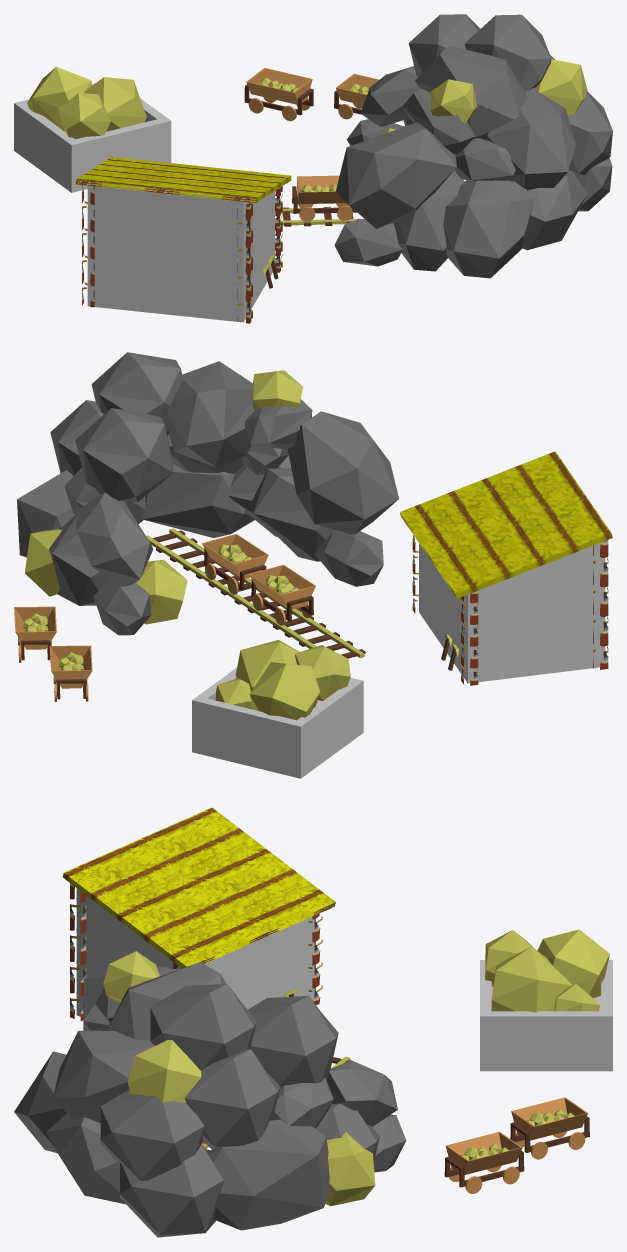
Rendered from GoldMineExploited.fbx.
The picture shows the model from 3 angles, top to bottom: view 1: azimuth 30°, elevation 25°; view 2: azimuth 150°, elevation 25°; view 3: azimuth 270°, elevation 25°; orthographic projection. The views are drawn at different scales.
Parts seen in each view (by area): view 1: Caverne, MinerHouse, Cube, Wagon.003, Wagon, Icosphere.005, Icosphere.003, Icosphere.004, Icosphere.002, Icosphere.001, Wagon.002, RAil; view 2: Caverne, MinerHouse, Cube, RAil, Icosphere.003, Wagon, Wagon.001, Icosphere, Wagon.003, Wagon.002, Icosphere.004, Icosphere.007 (+3 smaller); view 3: Caverne, MinerHouse, Cube, Icosphere.005, Wagon.002, Wagon.003, Icosphere.002, Icosphere.003, Icosphere.007, Icosphere.001, Icosphere.004, Icosphere.006.
Part boxes in pixels (x1,y1,x2,y2): Caverne: (334,14,612,278); MinerHouse: (75,157,291,323); Cube: (14,83,171,192); Wagon.003: (244,68,313,121); Wagon: (292,175,356,221); Icosphere.005: (84,77,146,131); Icosphere.003: (27,66,92,130); Icosphere.004: (57,93,110,139); Icosphere.002: (535,59,587,114); Icosphere.001: (431,79,477,124); Wagon.002: (334,73,379,119); RAil: (275,206,364,226); Caverne: (17,352,398,635); MinerHouse: (399,451,612,685); Cube: (192,667,363,778); RAil: (146,528,365,658); Icosphere.003: (249,662,319,720); Wagon: (249,564,315,625); Wagon.001: (202,534,268,594); Icosphere: (135,559,187,624); Wagon.003: (49,645,92,701); Wagon.002: (14,606,56,662); Icosphere.004: (295,645,350,701); Icosphere.007: (25,529,62,596); Caverne: (14,962,406,1237); MinerHouse: (62,807,335,1020); Cube: (480,960,612,1071); Icosphere.005: (491,946,572,1012); Wagon.002: (444,1131,524,1193); Wagon.003: (510,1097,589,1159); Icosphere.002: (127,1040,201,1102); Icosphere.003: (537,929,609,998); Icosphere.007: (325,1132,375,1206); Icosphere.001: (103,951,159,1002); Icosphere.004: (485,930,535,986); Icosphere.006: (554,984,600,1011).
Size of the model in its own units: 1180 by 422 by 1019.
